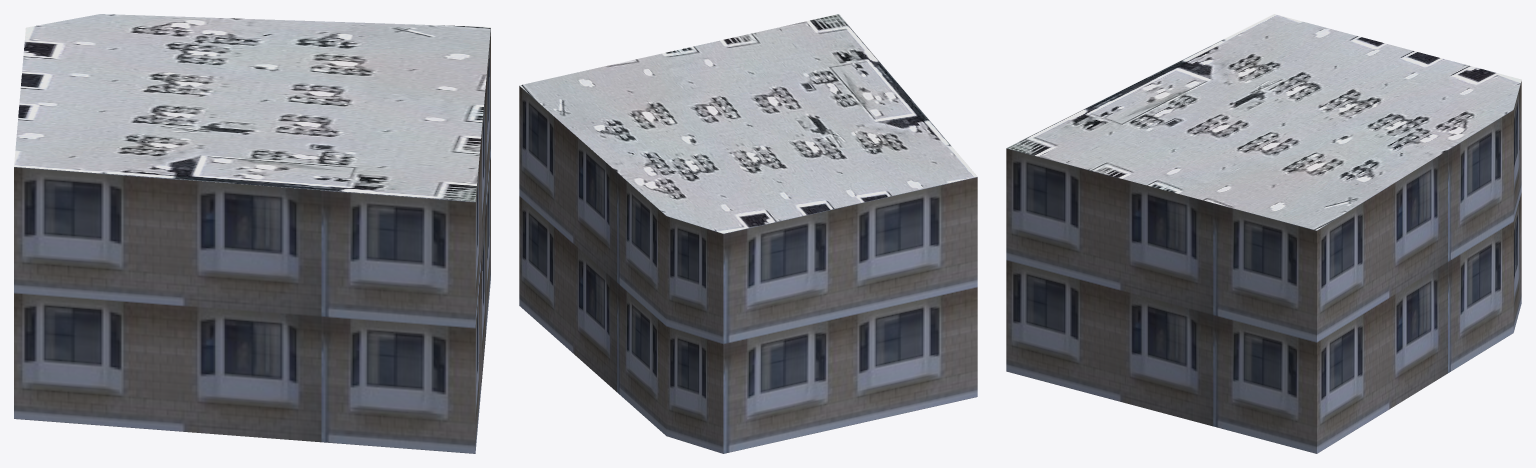
The model's file is ResTex__124.fbx.
3 renders of one model, left to right at view 1: azimuth 30°, elevation 25°; view 2: azimuth 150°, elevation 25°; view 3: azimuth 270°, elevation 25°, orthographic. The views are drawn at different scales.
Parts seen in each view (by area): view 1: CityEngineMaterial_3_m, CityEngineMaterial_m; view 2: CityEngineMaterial_3_m, CityEngineMaterial_m; view 3: CityEngineMaterial_3_m, CityEngineMaterial_m.
Boxes of the visible parts, <box> form: CityEngineMaterial_3_m: <box>14,29,490,453</box>; CityEngineMaterial_m: <box>14,14,490,201</box>; CityEngineMaterial_3_m: <box>519,86,977,453</box>; CityEngineMaterial_m: <box>519,14,977,233</box>; CityEngineMaterial_3_m: <box>1006,81,1521,453</box>; CityEngineMaterial_m: <box>1006,14,1521,230</box>.
Bounding box in the file's own units: 12.48 × 6 × 12.55.
2 materials, 2 textured.
